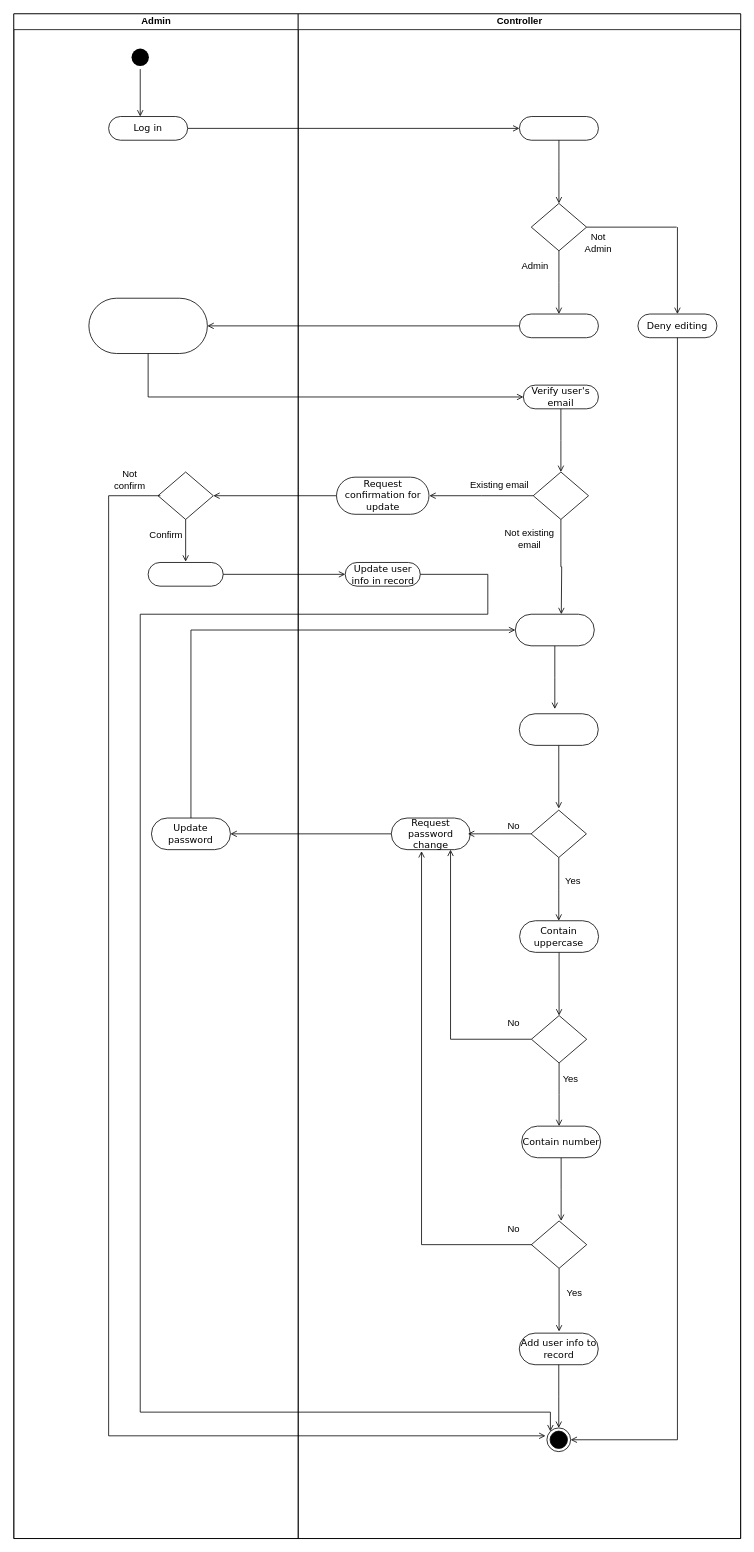
This 754x1552 diagram has some shape labels left out. Here are the shapes that lost their labels. From the top down, the centre of each, then its label:
At (x=558, y=128): "Verify user role".
At (x=147, y=325): "Fill in user info (username, email, password, role - TBD)".
At (x=558, y=325): "Allow editing".
At (x=185, y=574): "Confirm update".
At (x=554, y=629): "Verify password strength".
At (x=558, y=729): "Contain lowercase".
